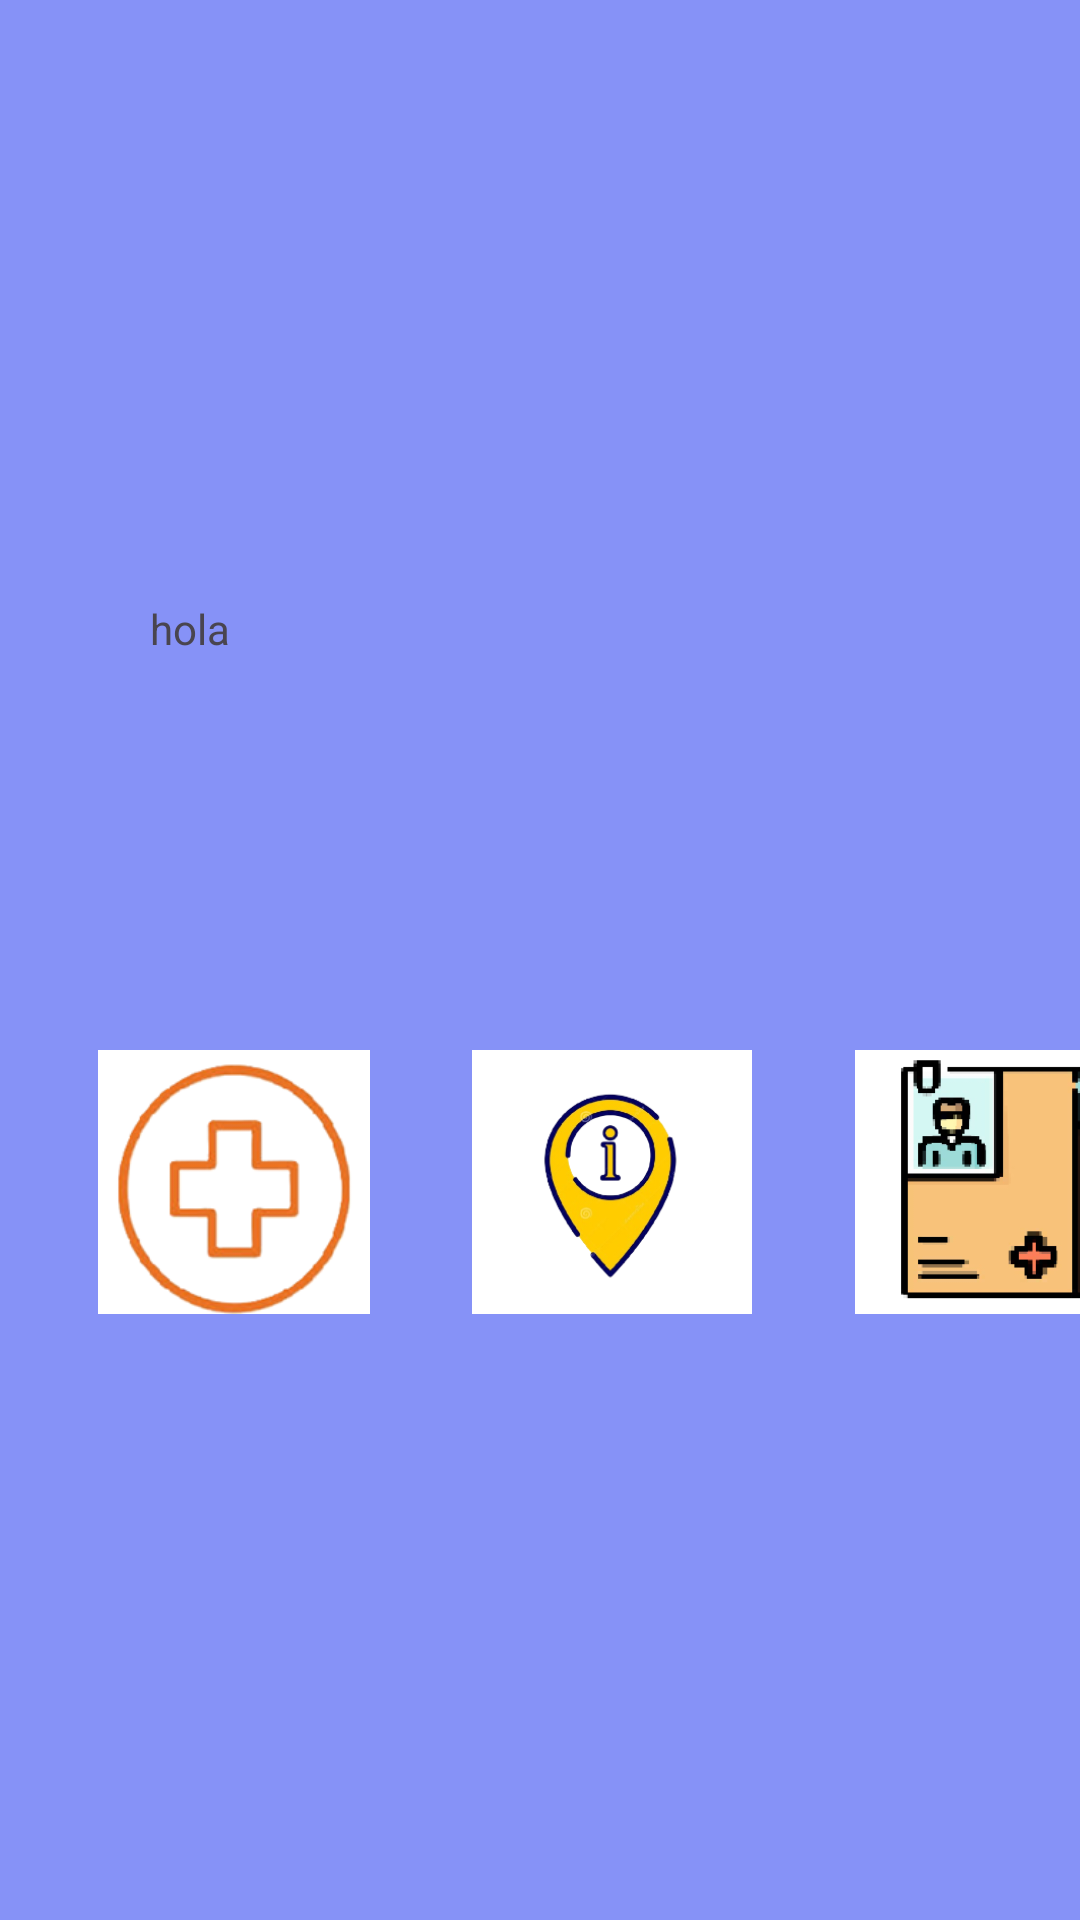

Named icons in this screenshot (1080w x 1920h) and their centers, (x=x, y=y):
consultarubicacion: (x=612, y=1182)
